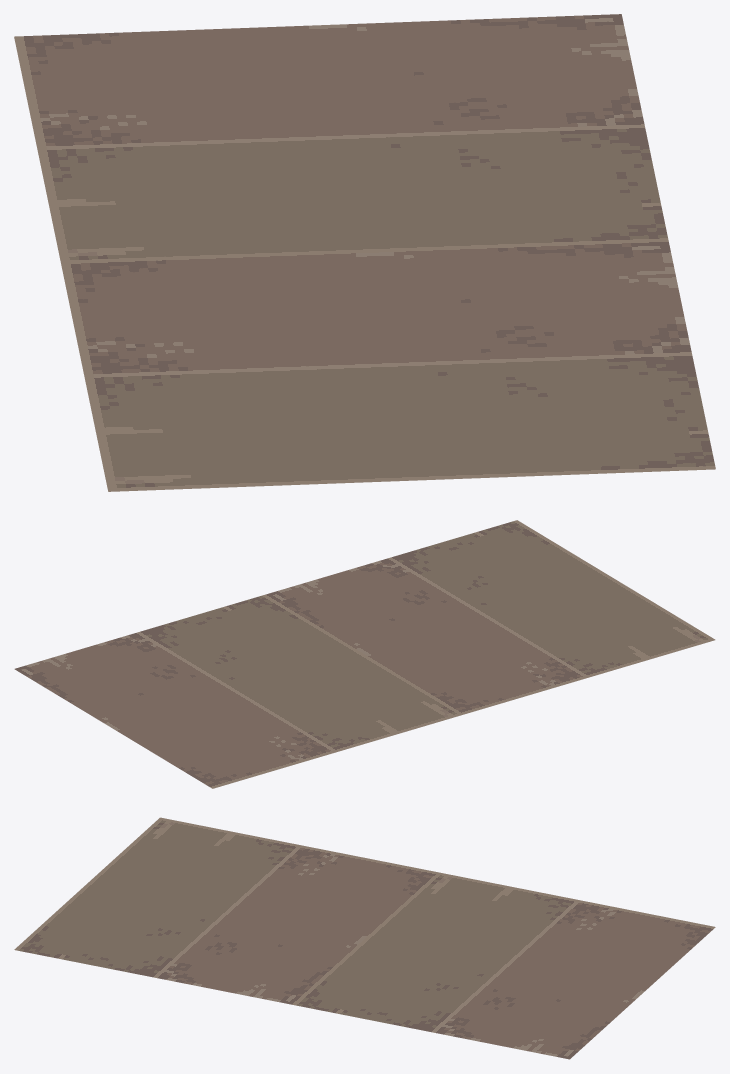
Rendered from kd_stage_135ebf_2_53.glb.
3 views of the same model, one above another, from view 1: azimuth 30°, elevation 25°; view 2: azimuth 150°, elevation 25°; view 3: azimuth 270°, elevation 25° (orthographic). The views are drawn at different scales.
Parts seen in each view (by area): view 1: kd_stage_135ebf_2_53; view 2: kd_stage_135ebf_2_53; view 3: kd_stage_135ebf_2_53.
Boxes of the visible parts, x1,y1,x2,y2 form: kd_stage_135ebf_2_53: (14,14,715,491); kd_stage_135ebf_2_53: (14,520,715,788); kd_stage_135ebf_2_53: (14,817,715,1059).
Bounding box in the file's own units: 7.11 × 4.77e-07 × 8.72.
1 material, 1 textured.
